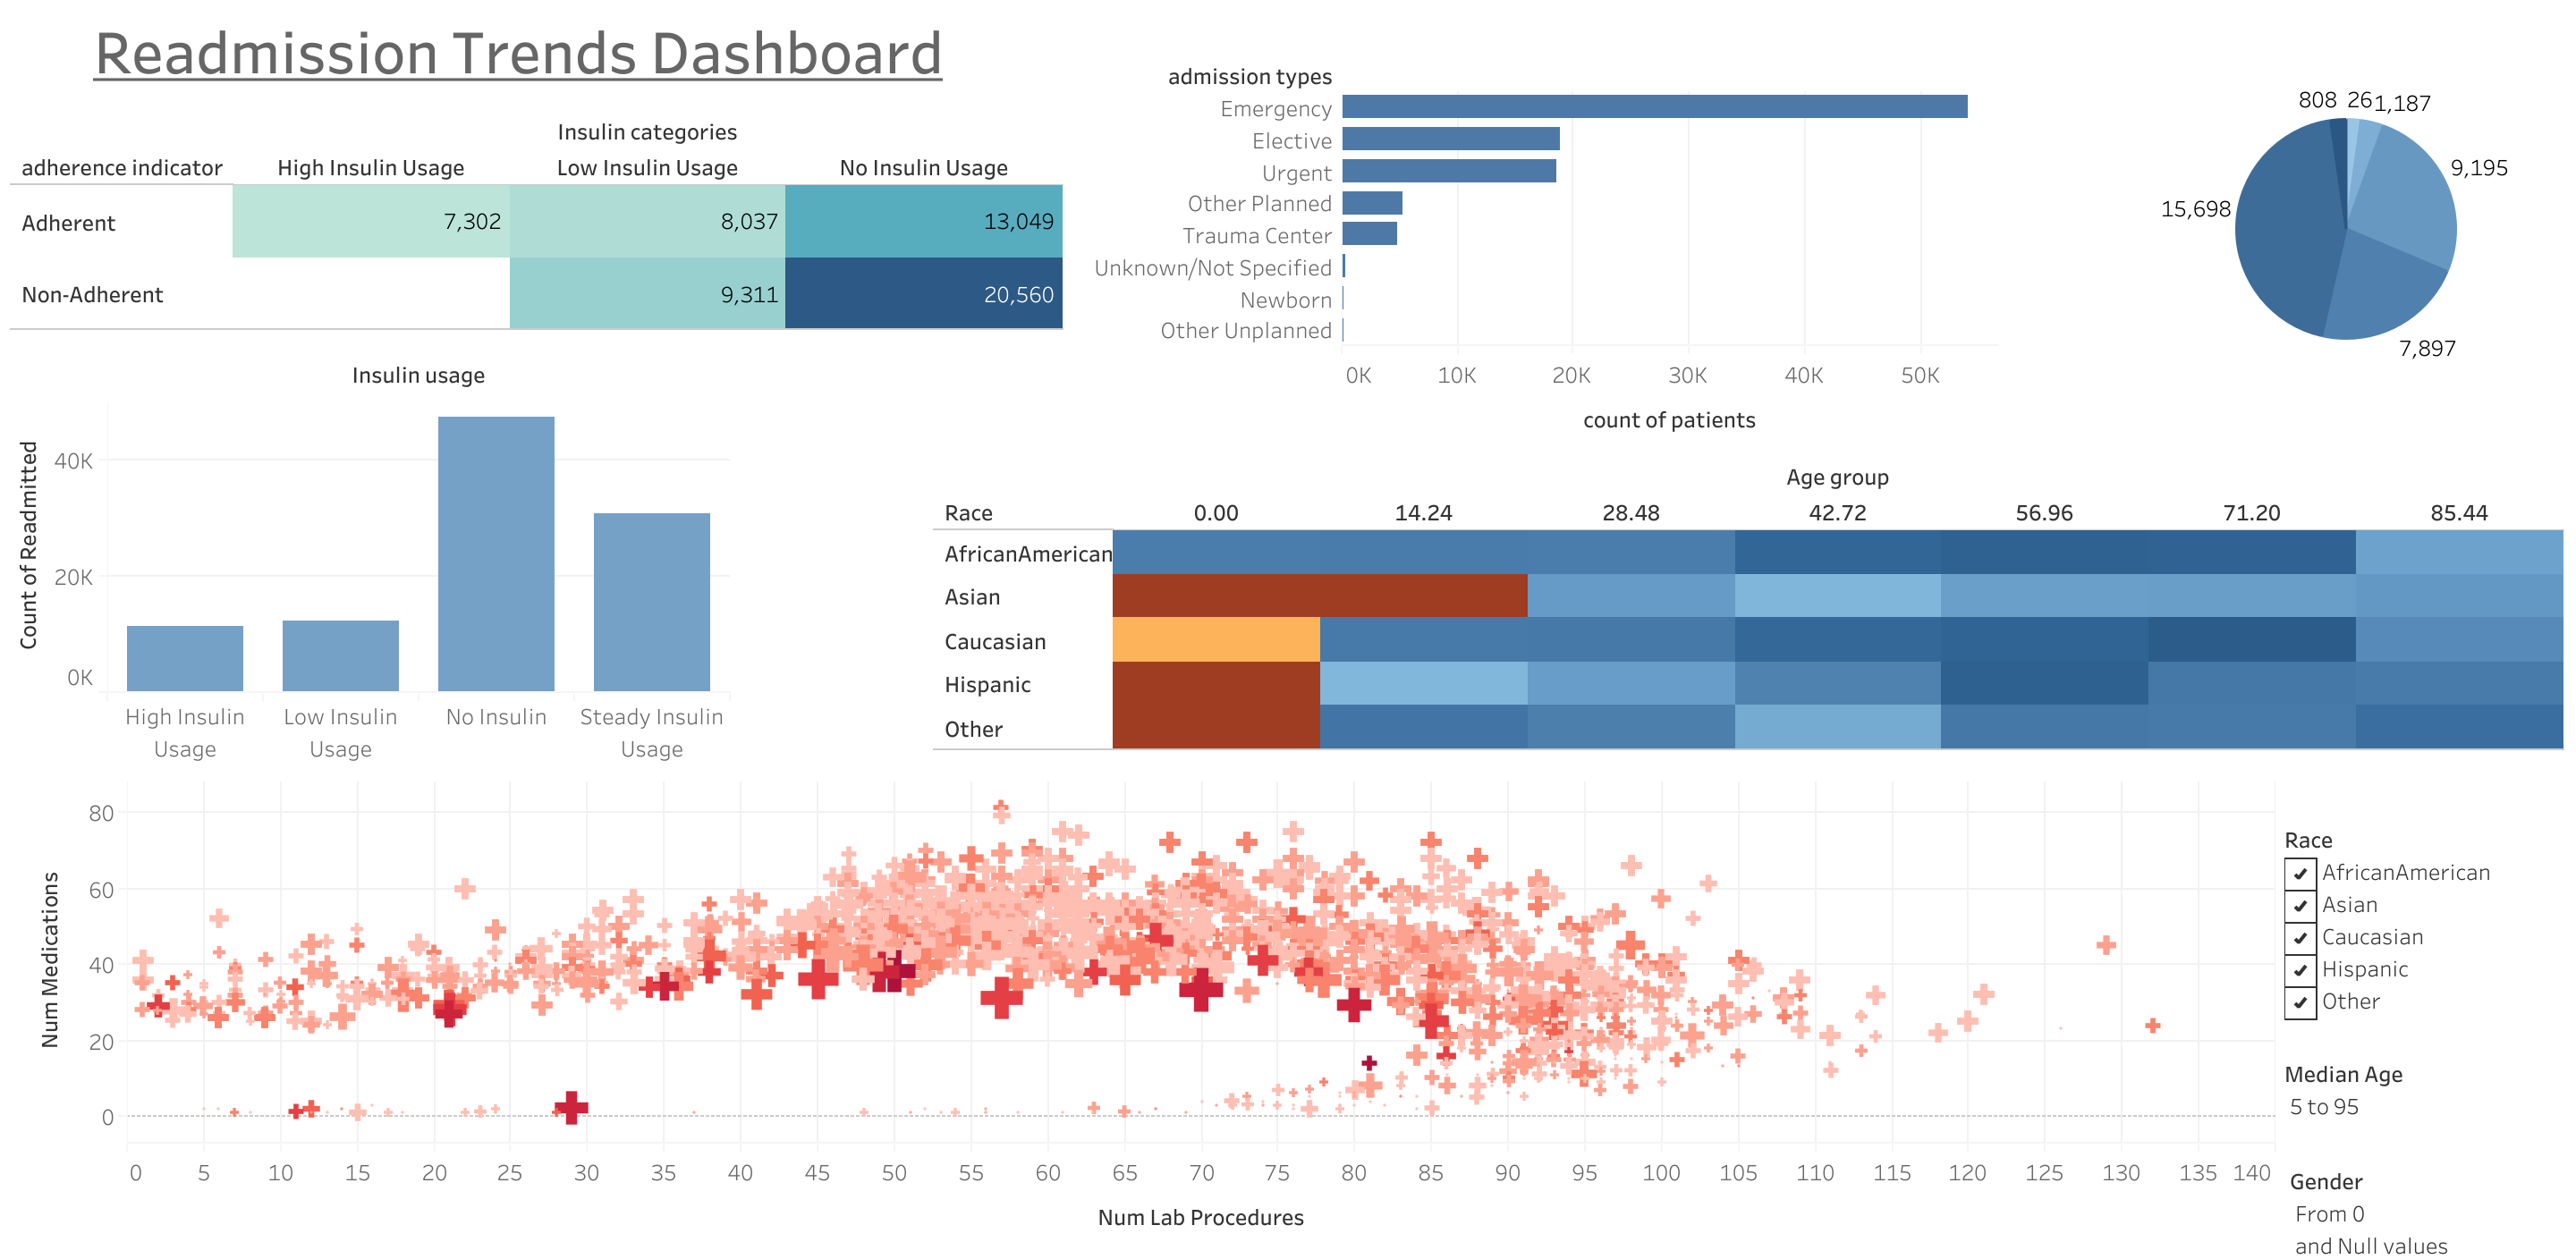

Layout of this report page (visuals, bound fields, positions):
{"tool":"tableau","page":{"name":"Dashboard 1","canvas":[1000,1000],"units":"permille","ordinal":0},"visuals":[{"type":"text","box":[1.6,2.7,399.2,73.6]},{"type":"worksheet","title":"Sheet 7","mark":"Automatic","rows":["Calculation_4276308587701944324"],"cols":["Calculation_4276308587702390789"],"box":[423.6,43.6,369.9,310.6]},{"type":"worksheet","title":"Sheet 5","mark":"Square","rows":["Calculation_4276308587347955714"],"cols":["Calculation_4276308587348520963"],"box":[4,88.8,409.1,173.9]},{"type":"worksheet","title":"Sheet 1","mark":"Automatic","rows":["race"],"cols":["Age (bin)"],"box":[362.2,362.9,633,232.2]},{"type":"worksheet","title":"Sheet 4","mark":"Automatic","rows":["num_medications"],"cols":["num_lab_procedures"],"box":[7.9,619.3,874.5,368]},{"type":"filter","title":"Sheet 5","param":"[federated.1kswqyl1m287gl1chwt3q1oj8kag].[none:race:nk]","box":[886.4,651,111.2,180.2]},{"type":"filter","title":"Sheet 4","param":"[federated.1kswqyl1m287gl1chwt3q1oj8kag].[med:age:qk]","box":[886.4,836.3,104.9,77.4]},{"type":"filter","title":"Sheet 4","param":"[federated.1kswqyl1m287gl1chwt3q1oj8kag].[attr:gender:qk]","box":[888,921.3,110.4,77.4]}]}

Visuals, with their boxes on the dashboard's canvas, which has no fixed pixel size, in thousandths of its width and height (x1, y1, x2, y2). These are canvas units, not pixel positions in the 2576x1259 screenshot, which may show the page scaled, cropped or inside an application window:
text: select_region(2, 3, 401, 76)
"Sheet 7" worksheet: select_region(424, 44, 794, 354)
"Sheet 5" worksheet (Square marks): select_region(4, 89, 413, 263)
"Sheet 1" worksheet: select_region(362, 363, 995, 595)
"Sheet 4" worksheet: select_region(8, 619, 882, 987)
"Sheet 5" filter: select_region(886, 651, 998, 831)
"Sheet 4" filter: select_region(886, 836, 991, 914)
"Sheet 4" filter: select_region(888, 921, 998, 999)
